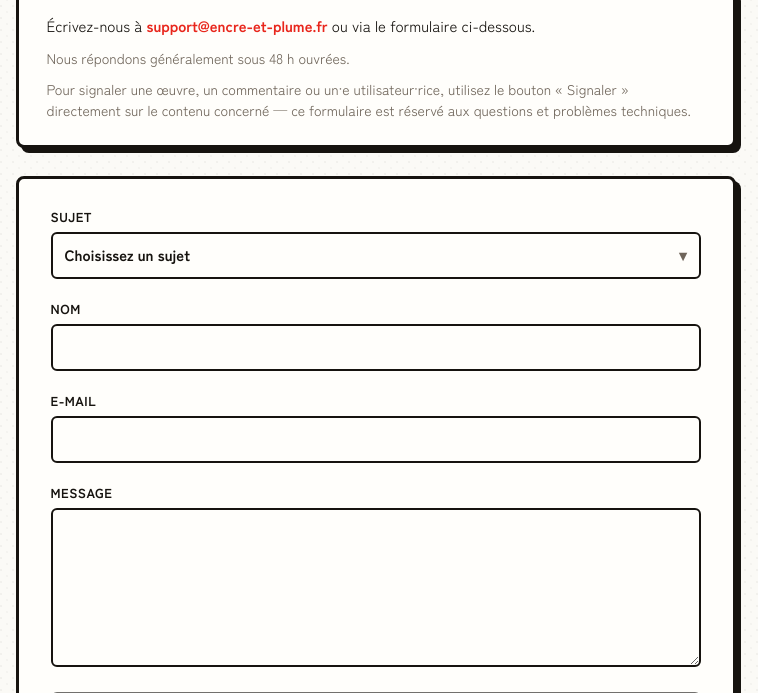
Test: ContactClient › signed out: name/email are editable and submit is disabled until valid
Click the dropdown labelled "Choisissez un sujet ▾": click(127, 254) [50, 232, 700, 278]
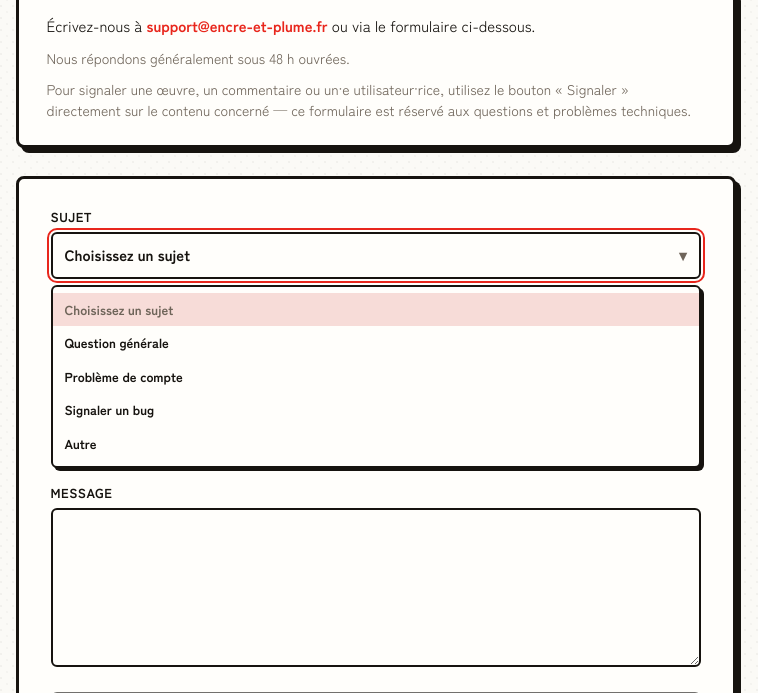
Click the option "Question générale": click(117, 342) [64, 333, 169, 352]
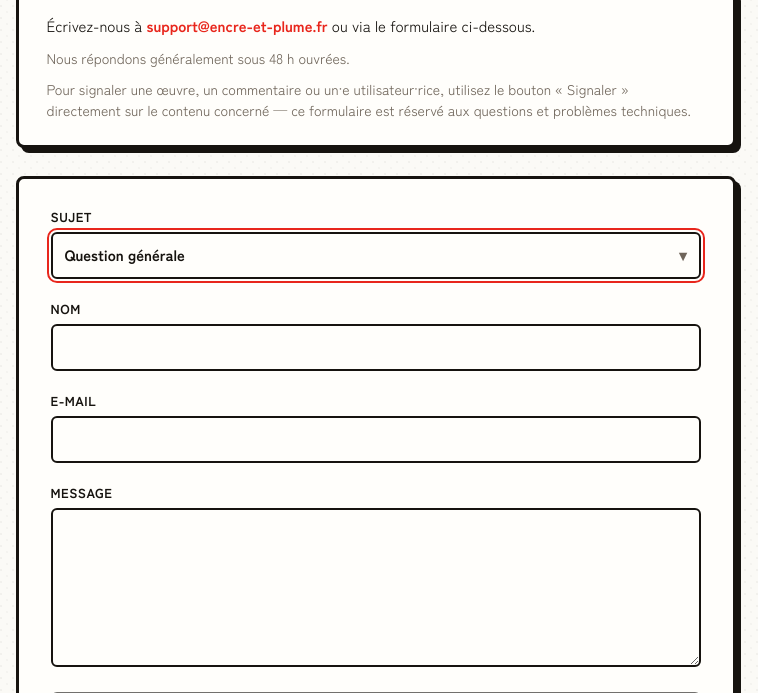
In the field labelled "Nom": (376, 347) [50, 324, 700, 370], type "Camille Dupont"
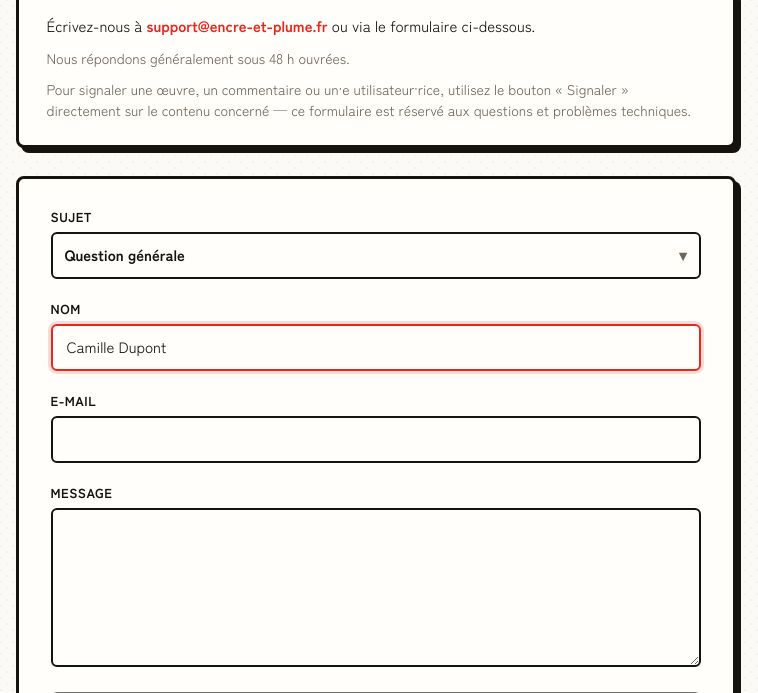
In the field labelled "E-mail": (376, 439) [50, 416, 700, 462], type "camille@example.com"
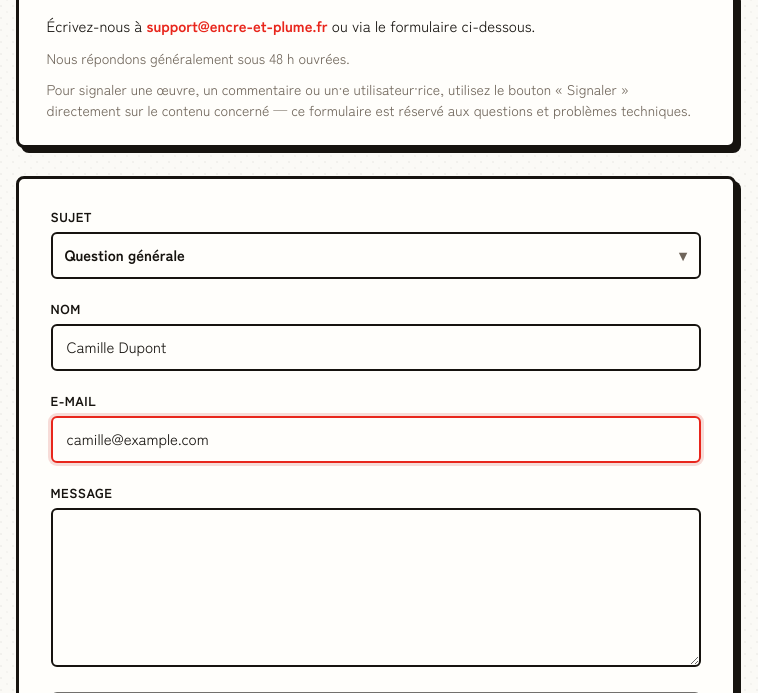
In the text box labelled "Message": (376, 588) [50, 508, 700, 667], type "Bonjour, une question."
(page scrolled)
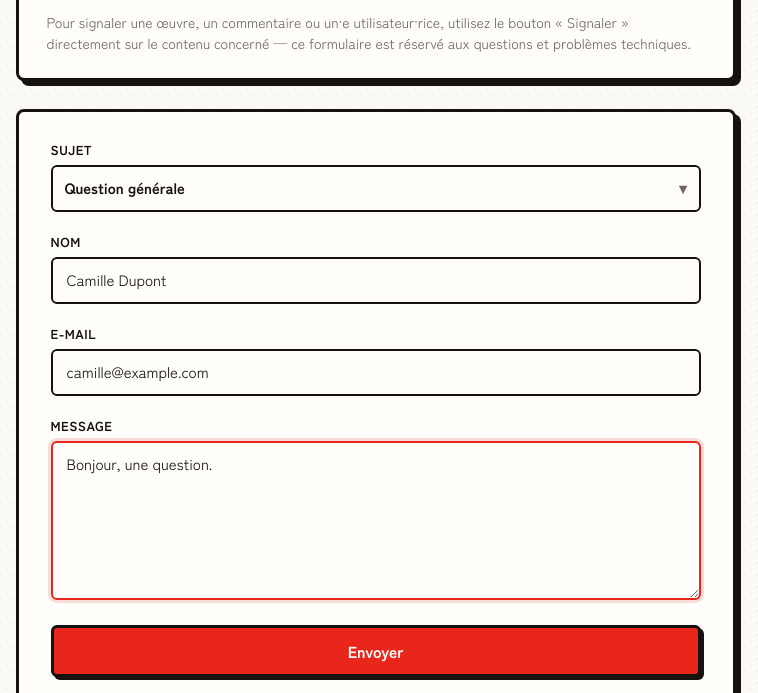
Now the button "Envoyer" is enabled, box [50, 625, 700, 677]
